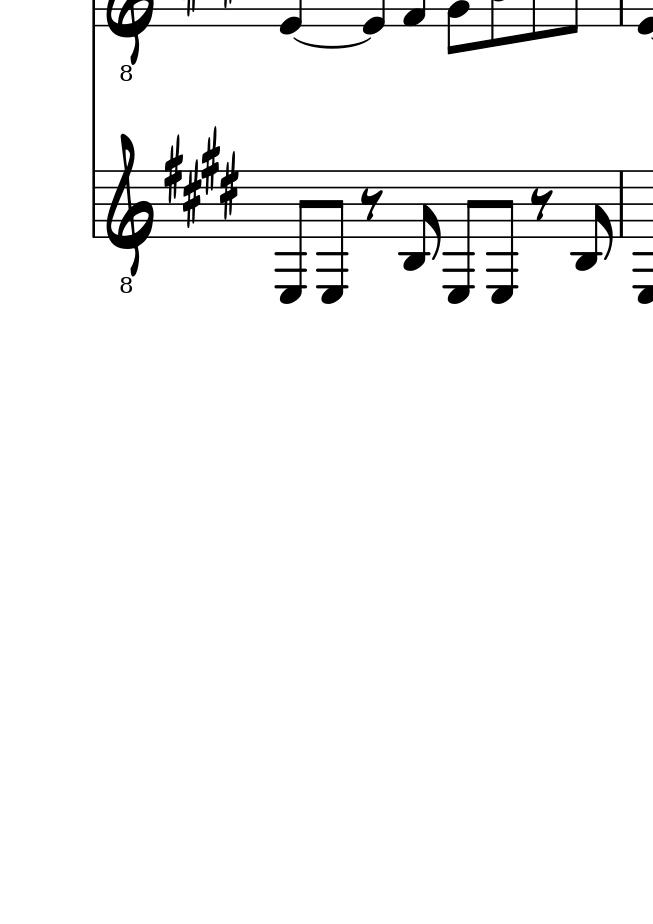8_-3: (397, 168, 442, 270), (571, 170, 613, 273)
8_-7: (441, 169, 484, 306), (273, 170, 311, 304), (486, 167, 519, 305), (315, 169, 346, 306)
E_S: (163, 126, 242, 226)
Lower_Gclef: (106, 133, 156, 296)
Rests8: (357, 187, 386, 222), (529, 187, 554, 219)
Single_barline: (613, 173, 630, 236), (87, 171, 101, 238)
Slur: (292, 34, 371, 49)
